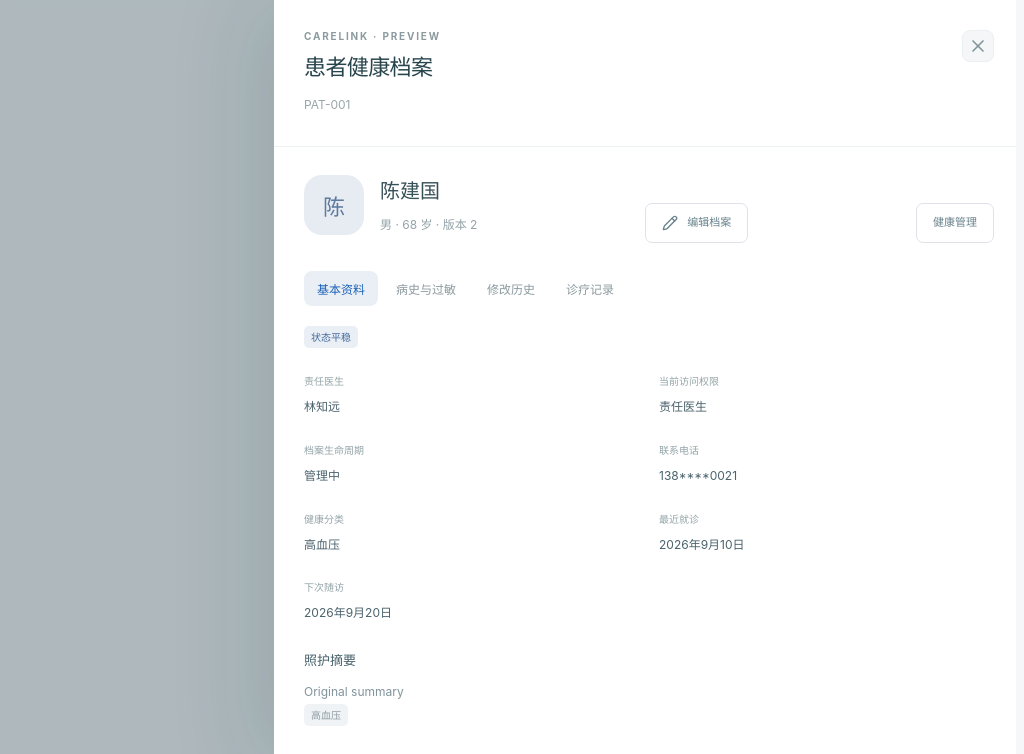
Scenario: Patients workflows › displays the author, reason, complete field changes and legacy baseline label
Click the button "修改历史" at x=511, y=289, box [474, 271, 548, 306]
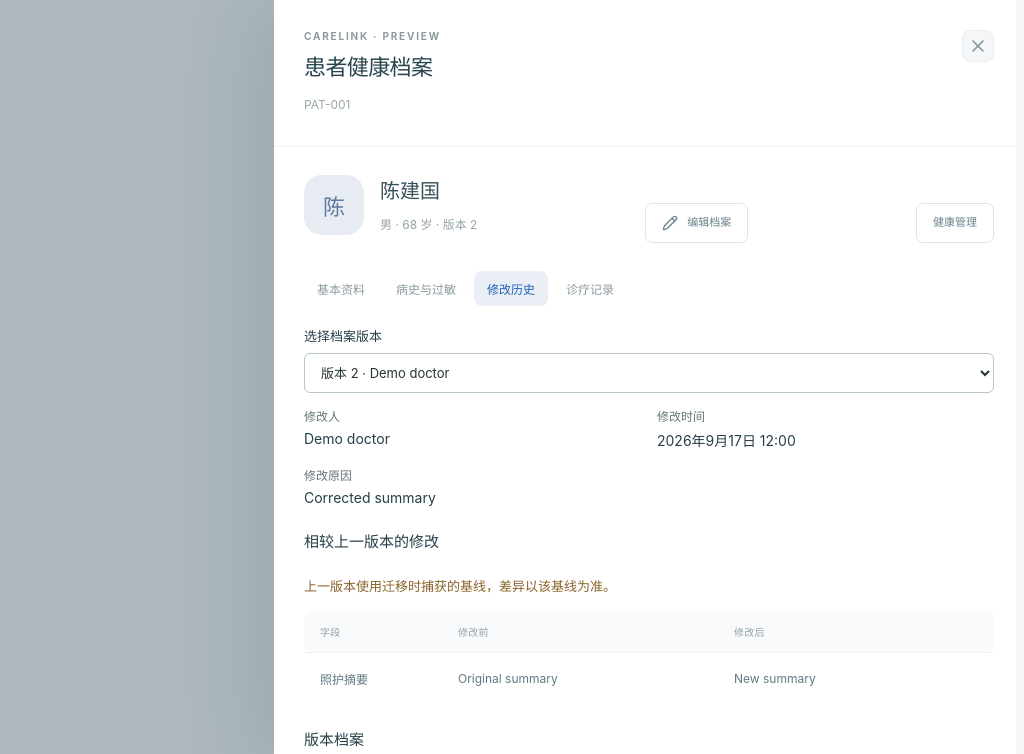
expect the text "Corrected summary" is shown: met, box [304, 489, 436, 506]
expect the text "New summary" is shown: met, box [718, 652, 994, 704]
expect the text "上一版本使用迁移时捕获的基线，差异以该基线为准。" is shown: met, box [304, 578, 616, 594]
Select "版本 1 · Demo doctor" in the dropdown labelled "选择档案版本" at x=649, y=373, box [304, 353, 994, 393]
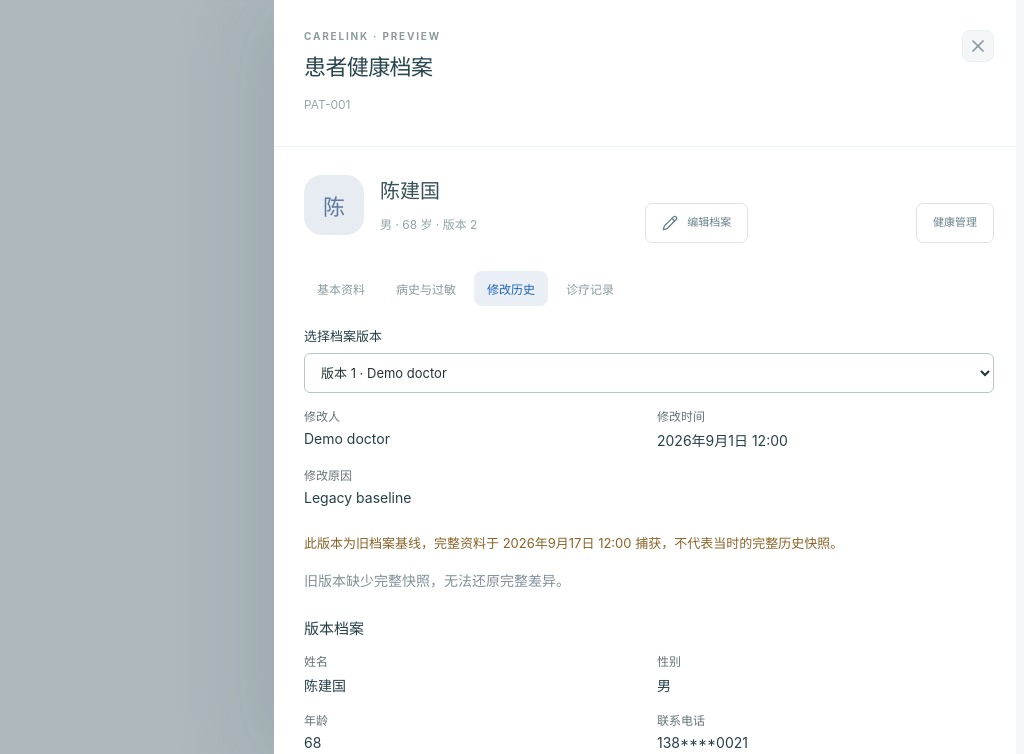
expect the text "此版本为旧档案基线，完整资料于 2026年9月17日 12:00 捕获，不代表当时的完整历史快照。" is shown: met, box [304, 535, 843, 551]
